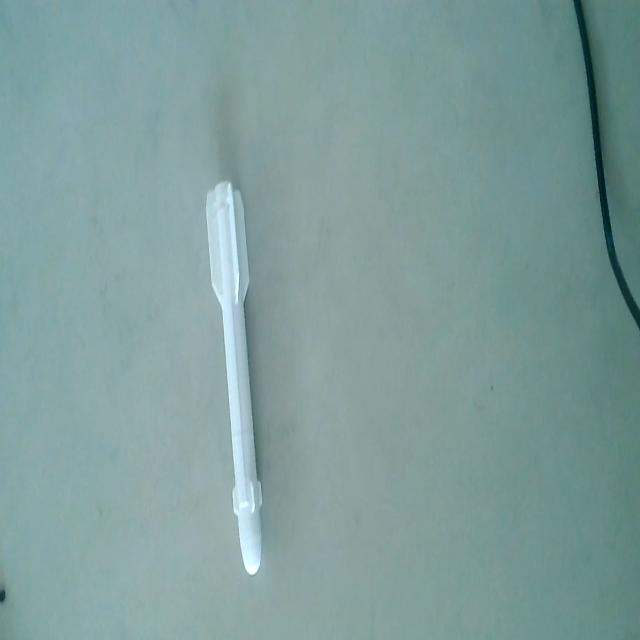Rocket: (204, 177, 266, 581)
